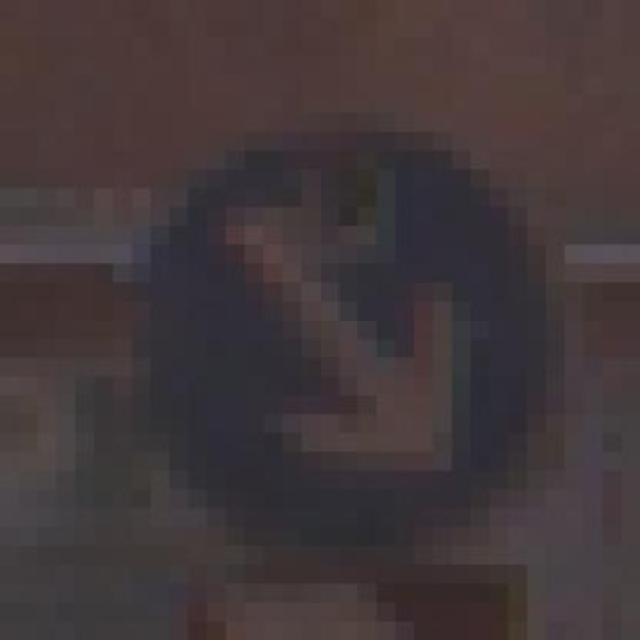Keep-Right: (75, 93, 583, 564)
